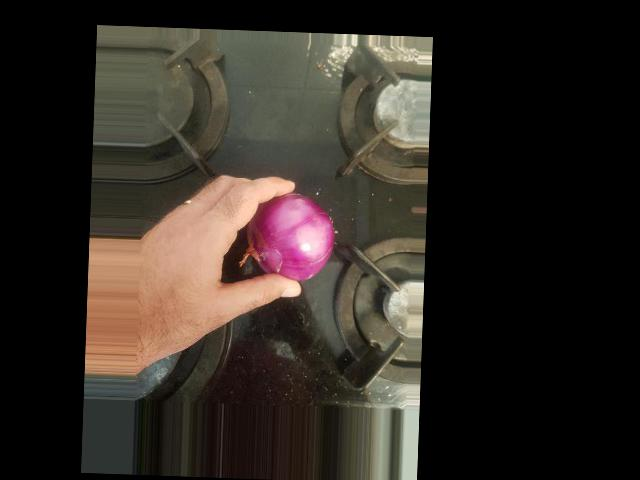onion: (292, 120, 383, 205)
